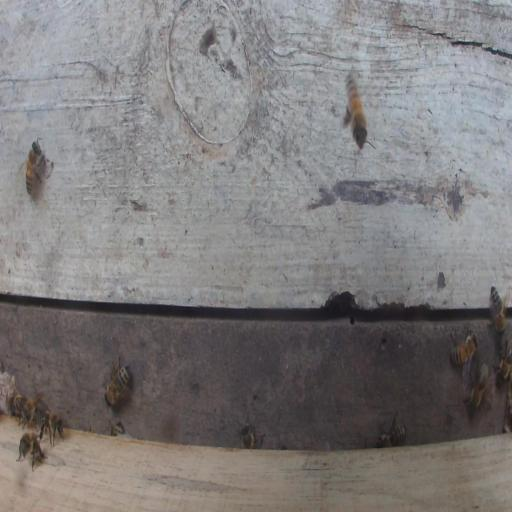nonpollenbee: (344, 73, 368, 148), (104, 358, 131, 407), (376, 411, 407, 448), (38, 408, 65, 447), (449, 330, 478, 366), (489, 285, 507, 336), (24, 140, 40, 197), (470, 363, 488, 411), (493, 347, 511, 385), (20, 433, 45, 459), (239, 423, 263, 449), (22, 398, 48, 420), (109, 419, 125, 436), (11, 397, 28, 412)
